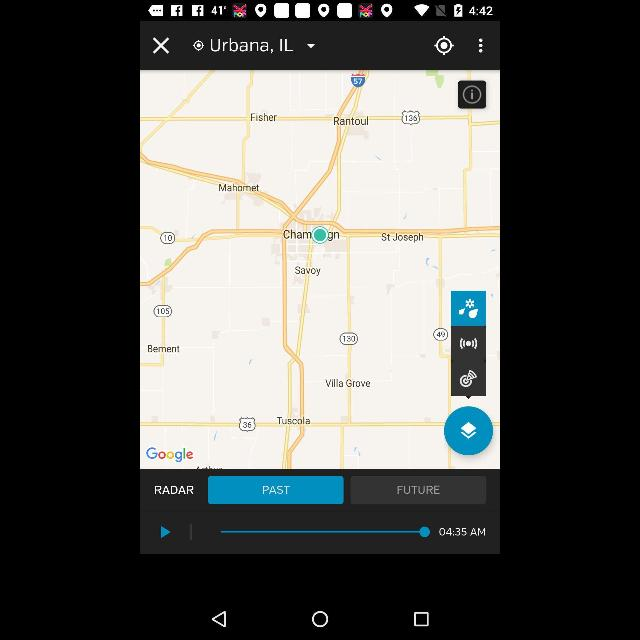button: (444, 407, 494, 455)
icon: (215, 526, 431, 538), (434, 34, 454, 56), (152, 36, 170, 54), (312, 612, 328, 628), (413, 612, 429, 628), (212, 610, 226, 628), (191, 38, 205, 52), (158, 526, 172, 540), (476, 37, 484, 54), (306, 42, 316, 48)
map: (140, 70, 498, 470)
panel: (140, 601, 500, 639)
text: (208, 36, 294, 54), (438, 527, 488, 537), (153, 484, 194, 496), (397, 485, 441, 495), (262, 484, 290, 494)
textbutton: (350, 476, 488, 504), (208, 476, 344, 504)
toolbar: (140, 22, 500, 70)
uppertaskbar: (141, 0, 499, 22)
